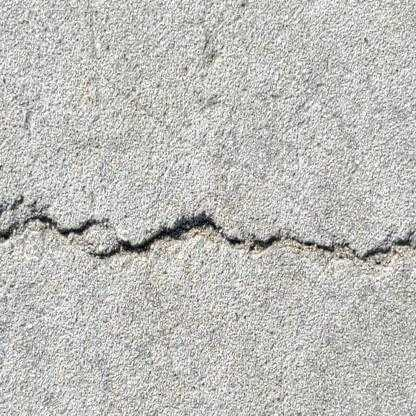crack: (1, 206, 415, 267)
